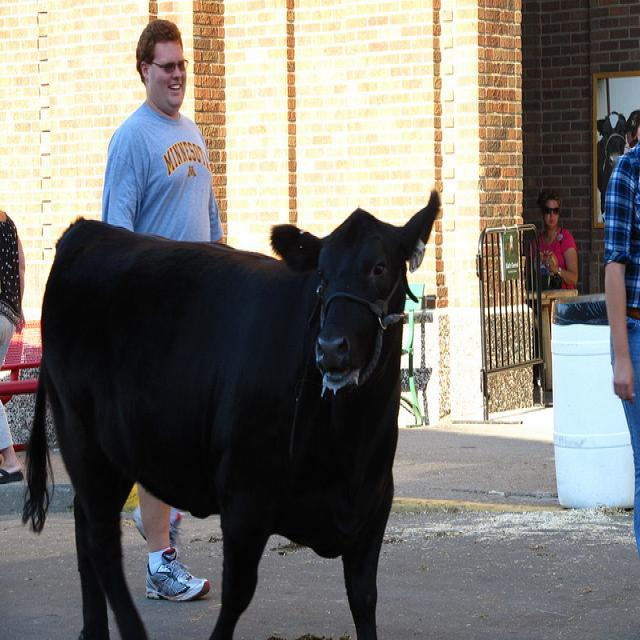cow: (20, 192, 439, 639)
